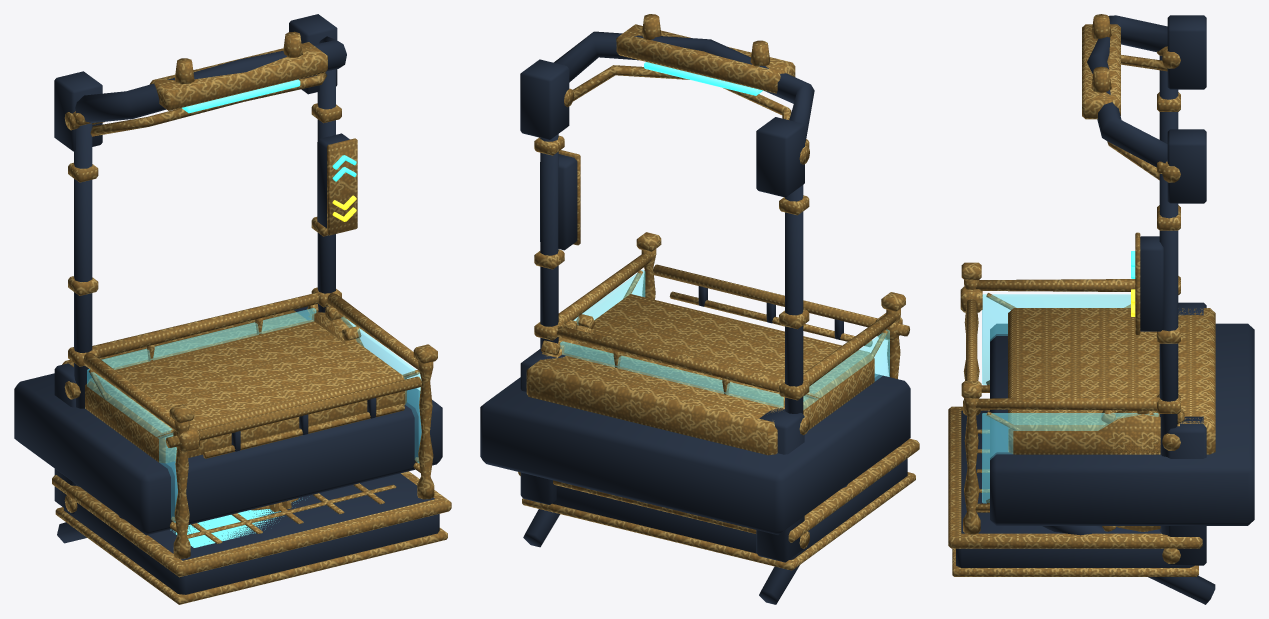
Rendered from mech_elevator.glb.
The picture shows the model from 3 angles, left to right: view 1: azimuth 30°, elevation 25°; view 2: azimuth 150°, elevation 25°; view 3: azimuth 270°, elevation 25°; orthographic projection.
Parts seen in each view (by area): view 1: cab_structure, winch_housing, safety_gate; view 2: winch_housing, cab_structure, safety_gate; view 3: cab_structure, winch_housing, safety_gate.
Boxes of the visible parts, box(x1,y1,x2,y2) form: cab_structure: box(52, 14, 451, 604); winch_housing: box(14, 304, 442, 543); safety_gate: box(166, 376, 421, 458); winch_housing: box(480, 294, 910, 604); cab_structure: box(518, 14, 919, 570); safety_gate: box(653, 264, 909, 346); cab_structure: box(948, 14, 1206, 576); winch_housing: box(990, 308, 1254, 604); safety_gate: box(960, 286, 982, 413).
Bounding box in the file's own units: 1.34 × 2.16 × 1.18.
Materials: 6 (1 with a texture image).
